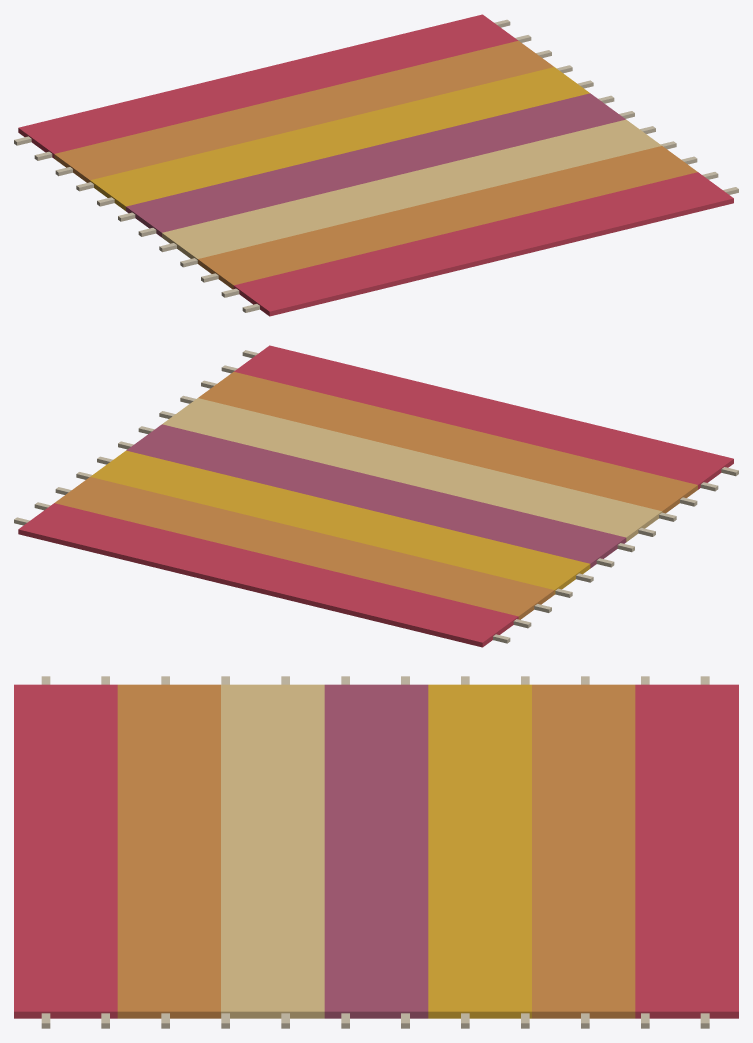
The model's file is sunset_rug.glb.
3 views of the same model, one above another, from view 1: azimuth 30°, elevation 25°; view 2: azimuth 150°, elevation 25°; view 3: azimuth 270°, elevation 25° (orthographic). The views are drawn at different scales.
Parts seen in each view (by area): view 1: furniture-sunset_rug; view 2: furniture-sunset_rug; view 3: furniture-sunset_rug.
Part boxes in pixels (x1,y1,x2,y2): furniture-sunset_rug: (14, 14, 738, 316); furniture-sunset_rug: (14, 345, 738, 647); furniture-sunset_rug: (14, 676, 738, 1028).
Size of the model in its own units: 1.7 by 0.016 by 1.5.
